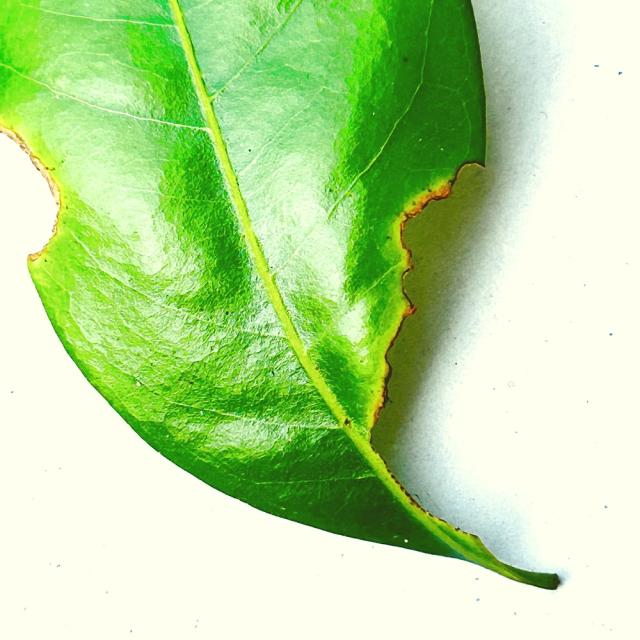Deficiency Leaf: (372, 164, 568, 575), (0, 128, 59, 276)
Lychee: (0, 0, 562, 593)
